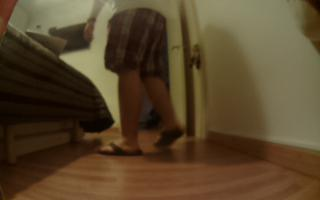person: (83, 1, 185, 157)
